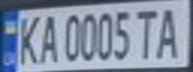0: (78, 8, 100, 62), (97, 7, 118, 61), (60, 9, 81, 63)
5: (112, 6, 136, 61)
A: (151, 2, 187, 61), (33, 10, 60, 64)
K: (12, 11, 42, 65)
T: (133, 4, 160, 61)
